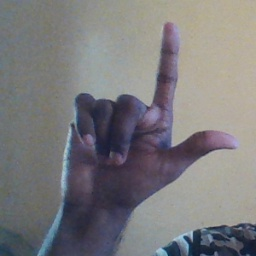L: (59, 20, 241, 209)
